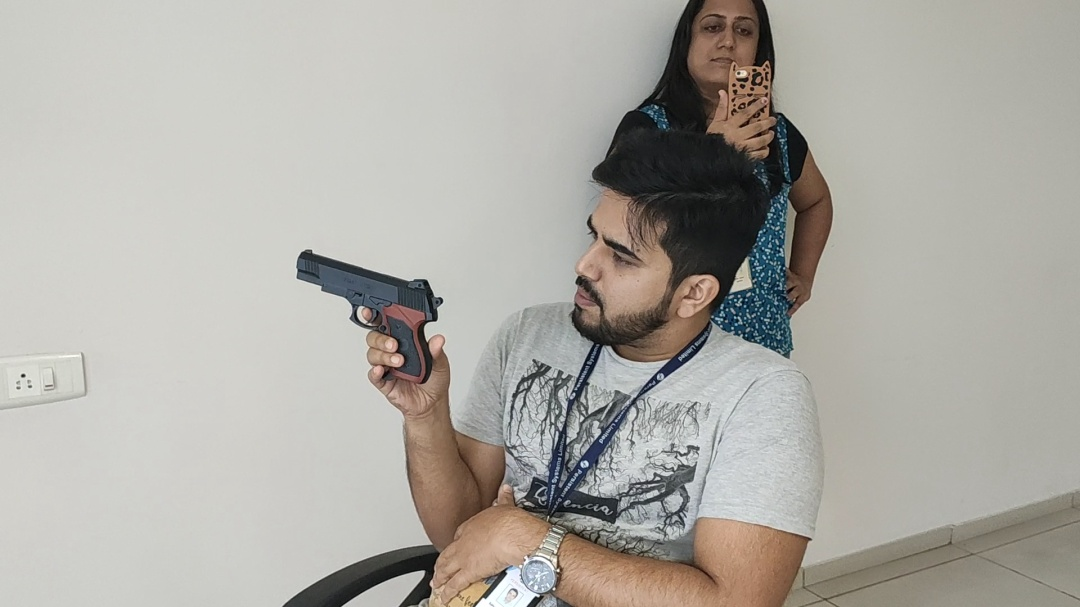gun: (296, 249, 443, 384)
